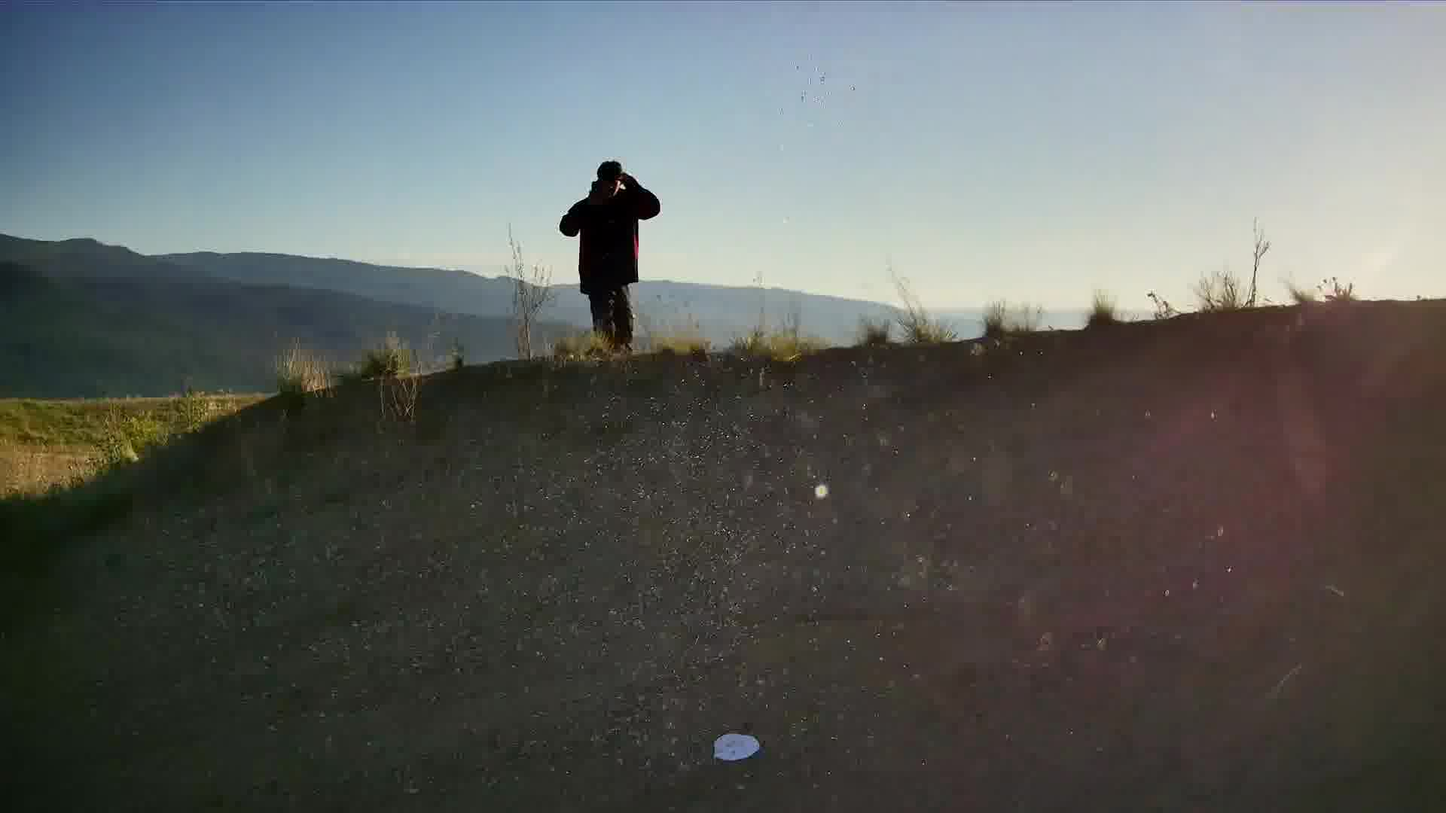Target: (714, 733, 754, 761)
